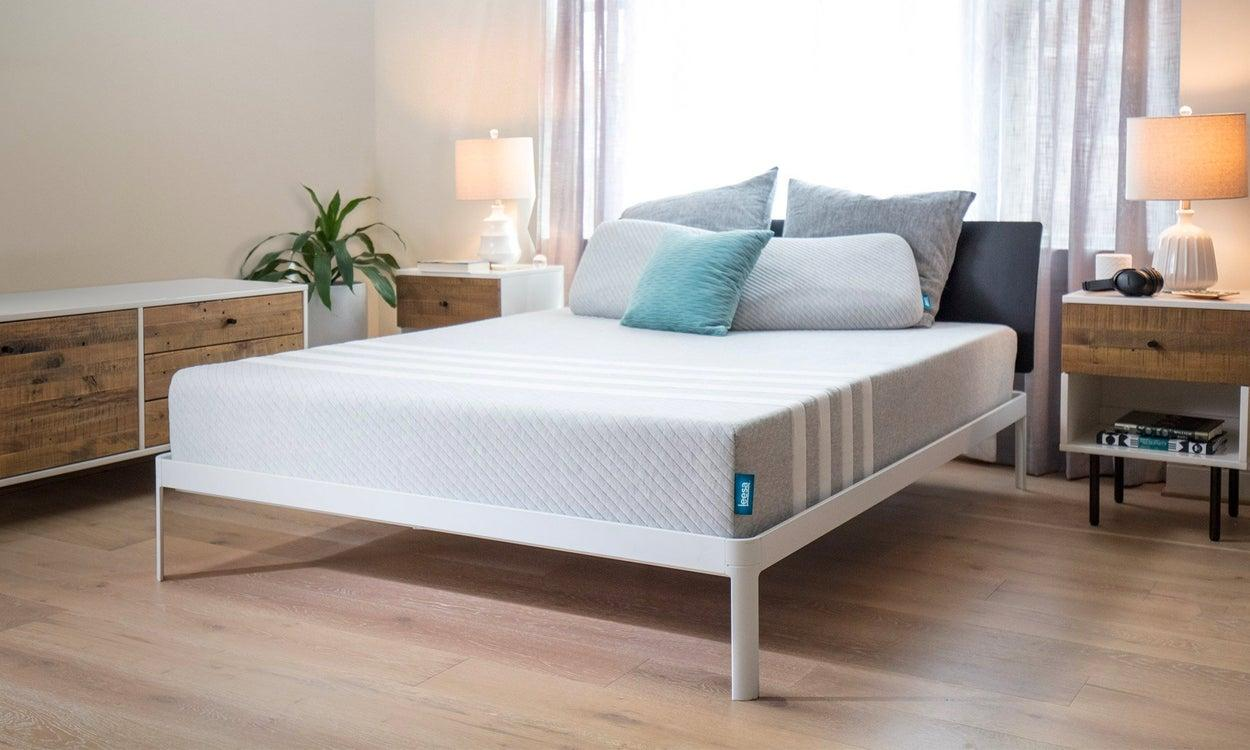bed: (210, 180, 920, 537)
